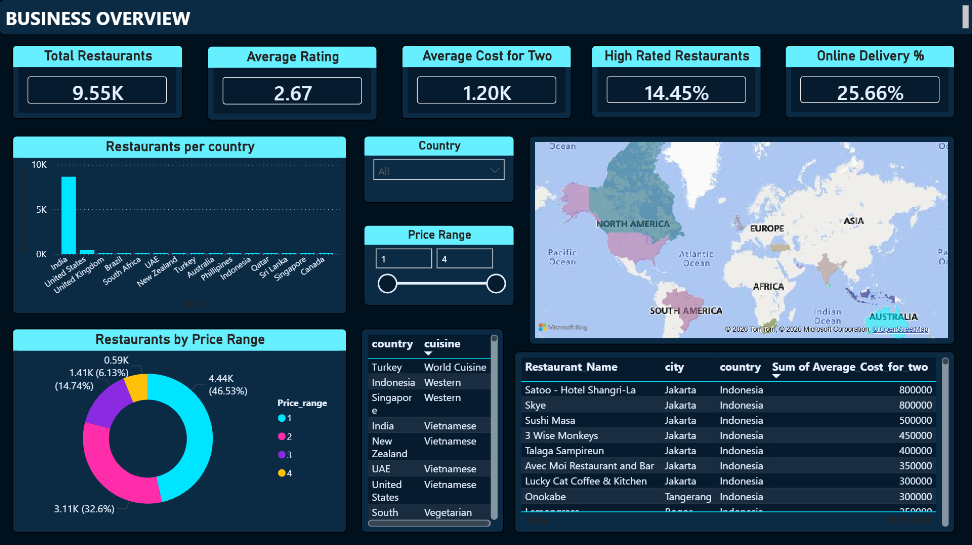

This screenshot's page, from the dashboard's own definition file:
{"tool":"powerbi","page":{"name":"Page 1","canvas":[1280,720],"ordinal":0},"visuals":[{"type":"cardVisual","title":"Total Restaurants","fields":{"Data":["zomato_analysis restaurant.Total Resturants"]},"box":[17.5,59.8,223.1,97.7],"z":0},{"type":"cardVisual","title":"Average Rating","fields":{"Data":["zomato_analysis restaurant.Average Rating"]},"box":[272.6,61.2,223.1,97.7],"z":1000},{"type":"cardVisual","title":"High Rated Restaurants","fields":{"Data":["zomato_analysis restaurant.High Rated Resturants"]},"box":[777,59.8,223.1,96.2],"z":2000},{"type":"columnChart","title":"Restaurants per country","fields":{"Y":["CountNonNull(zomato_analysis restaurant.Restaurant_ID)"],"Category":["zomato_analysis country.country"]},"box":[17.5,179.3,438.8,233.3],"z":3000},{"type":"donutChart","title":"Restaurants by Price Range","fields":{"Category":["zomato_analysis restaurant.Price_range"],"Y":["Count(zomato_analysis restaurant.Restaurant_ID)"]},"box":[17.5,431.5,438.8,268.2],"z":4000},{"type":"cardVisual","title":"Online Delivery %","fields":{"Data":["zomato_analysis restaurant.Online Delivery %"]},"box":[1030.7,59.8,223.1,96.2],"z":5000},{"type":"cardVisual","title":"Average Cost for Two","fields":{"Data":["zomato_analysis restaurant.Avg cost for two"]},"box":[527.7,59.8,223.1,97.7],"z":6000},{"type":"filledMap","fields":{"Category":["zomato_analysis country.country"],"Series":["zomato_analysis restaurant.Restaurant_Name"]},"box":[695.4,179.3,558.4,274.1],"z":7000},{"type":"textbox","box":[0,0,1280,46.7],"z":8000},{"type":"tableEx","fields":{"Values":["zomato_analysis restaurant.Restaurant_Name","zomato_analysis city.city","zomato_analysis country.country","Sum(zomato_analysis restaurant.Average_Cost_for_two)"]},"box":[676.4,462.1,577.3,237.6],"z":9000},{"type":"slicer","title":"Country","fields":{"Values":["zomato_analysis country.country"]},"box":[478.2,179.3,198.3,87.5],"z":10000},{"type":"slicer","title":"Price Range","fields":{"Values":["zomato_analysis restaurant.Price_range"]},"box":[478.2,295.9,198.3,106.4],"z":11000},{"type":"tableEx","fields":{"Values":["zomato_analysis country.country","zomato_analysis restaurant_cuisine.cuisine"]},"box":[475.3,431.5,186.6,268.2],"z":12000}]}

Visuals, with their boxes in screenshot pixels (x1, y1, x2, y2), scaled from the page's 1280x720 canvas onto the 972x545 screenshot:
"Total Restaurants" cardVisual: 13 45 183 119
"Average Rating" cardVisual: 207 46 376 120
"High Rated Restaurants" cardVisual: 590 45 759 118
"Restaurants per country" columnChart: 13 136 347 312
"Restaurants by Price Range" donutChart: 13 327 347 530
"Online Delivery %" cardVisual: 783 45 952 118
"Average Cost for Two" cardVisual: 401 45 570 119
filledMap - zomato_analysis country.country x zomato_analysis restaurant.Restaurant_Name: 528 136 952 343
textbox: 0 0 971 35
tableEx - zomato_analysis restaurant.Restaurant_Name x zomato_analysis city.city: 514 350 952 530
"Country" slicer: 363 136 514 202
"Price Range" slicer: 363 224 514 305
tableEx - zomato_analysis country.country x zomato_analysis restaurant_cuisine.cuisine: 361 327 503 530
